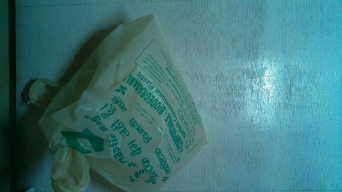f: (37, 12, 211, 184)
